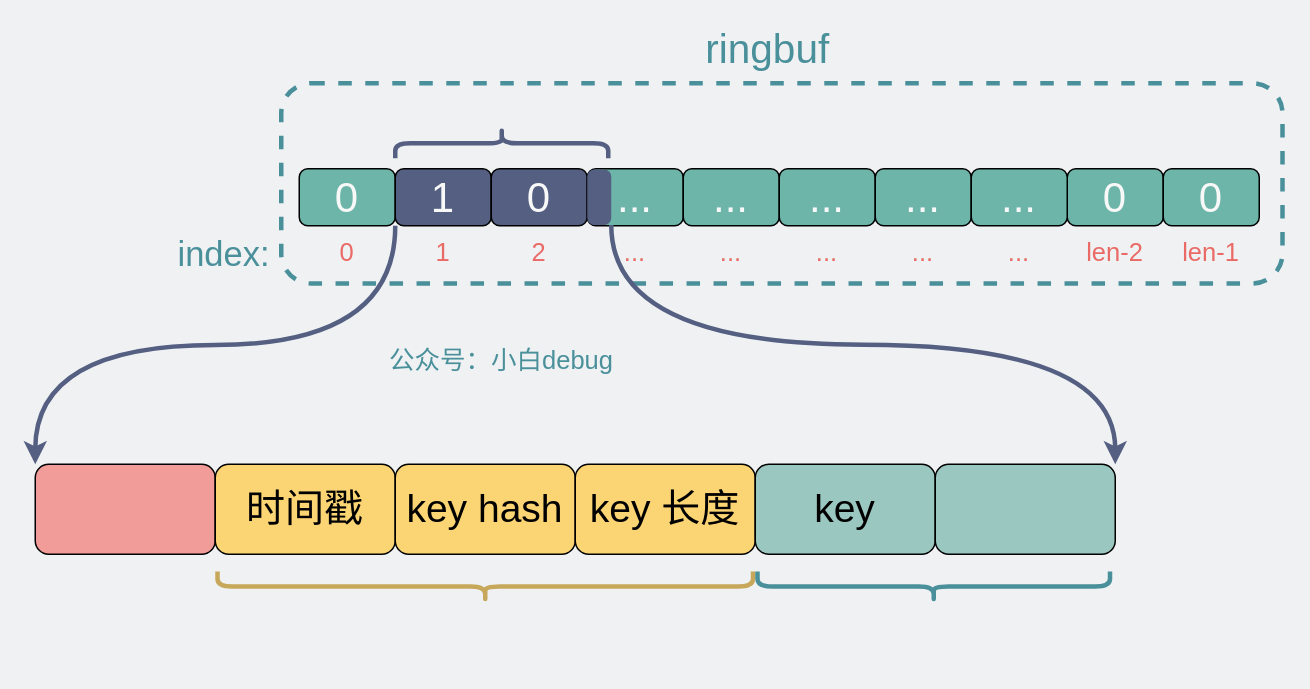
Image size: 1310x689. Some labels were removed from this diagram. Each missing label, with the centre of its shape:
"value" belongs at point 1024,508.
"value1" belongs at point 501,142.
"不固定长度的Data" belongs at point 933,585.
"固定长度的Header" belongs at point 484,585.
"长度" belongs at point 124,508.
